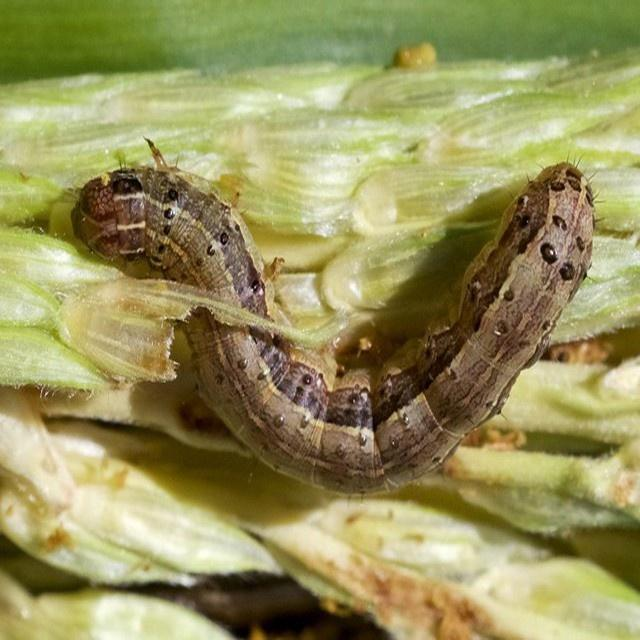gusano_cogollero: (61, 134, 608, 502)
